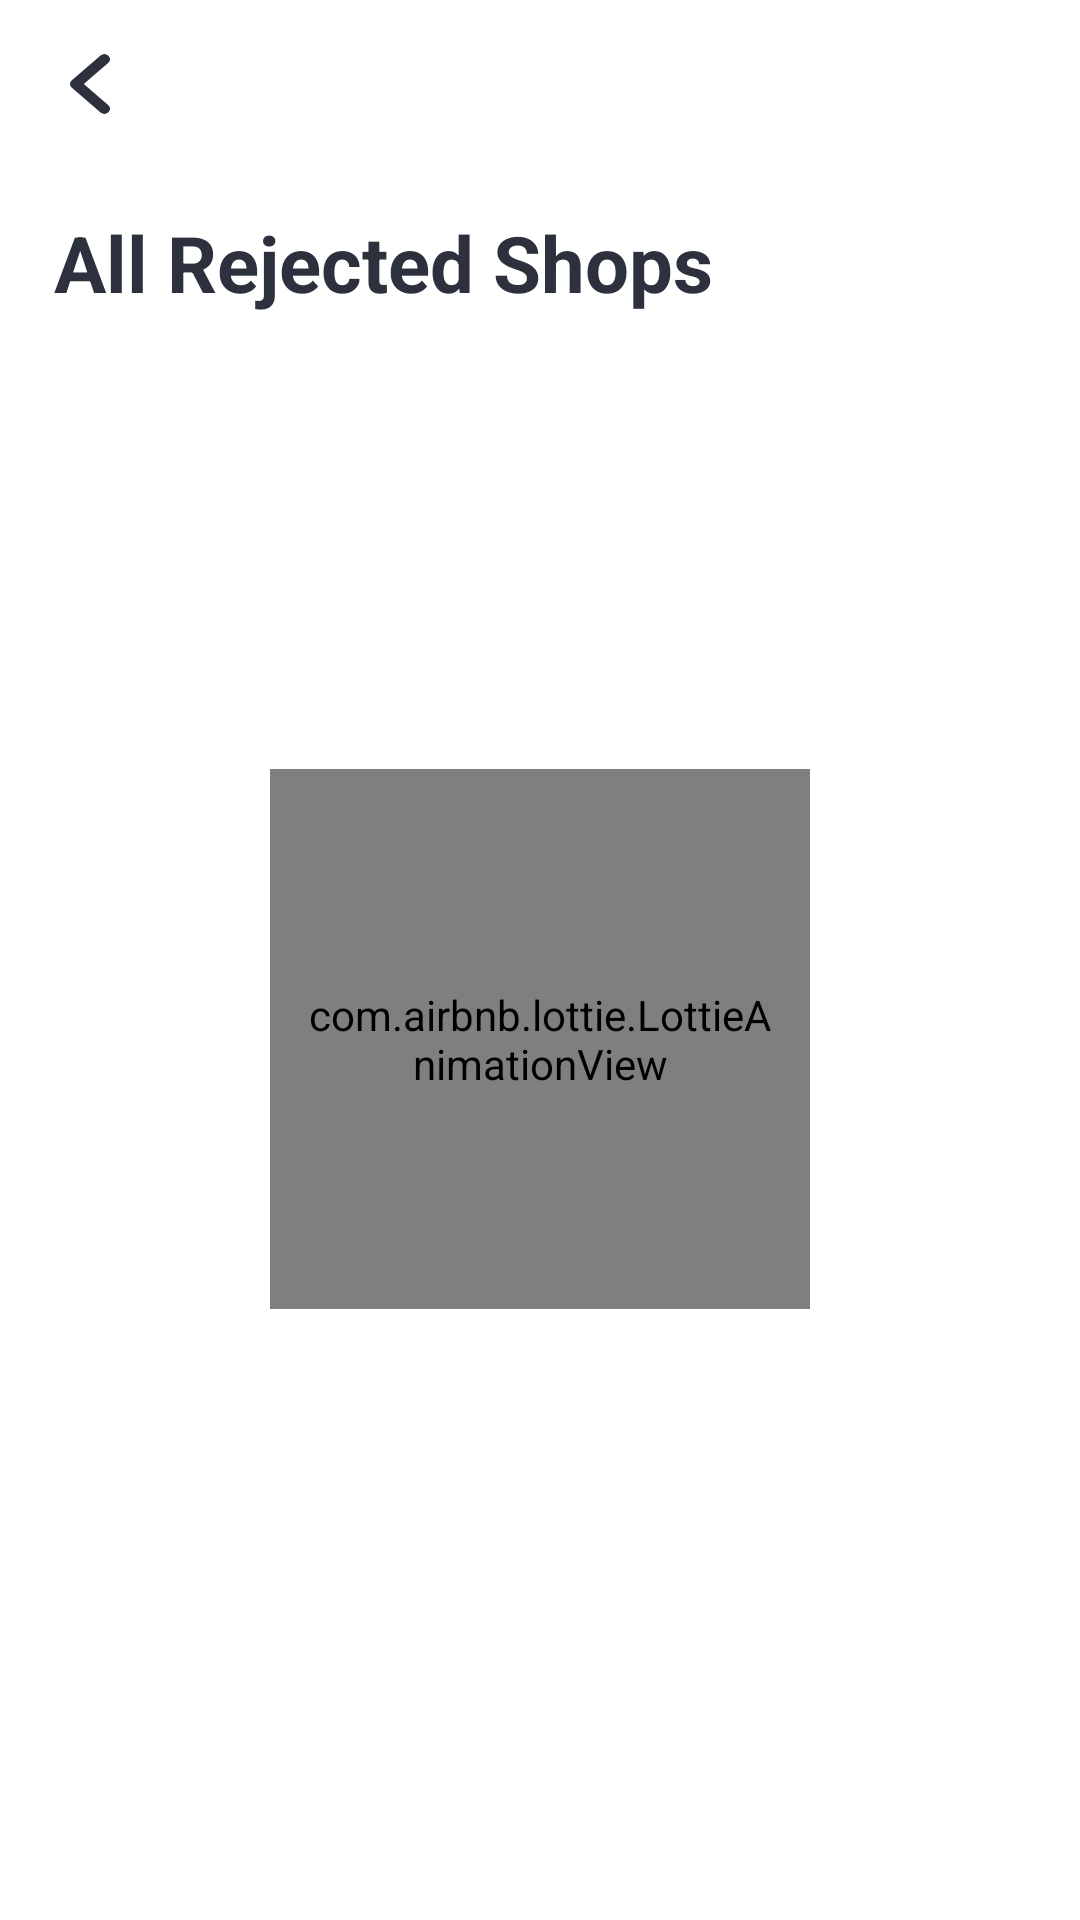

Where to tap for icons on this 1080px×1920px app screen, as (x=x, y=y):
back: (x=90, y=84)
